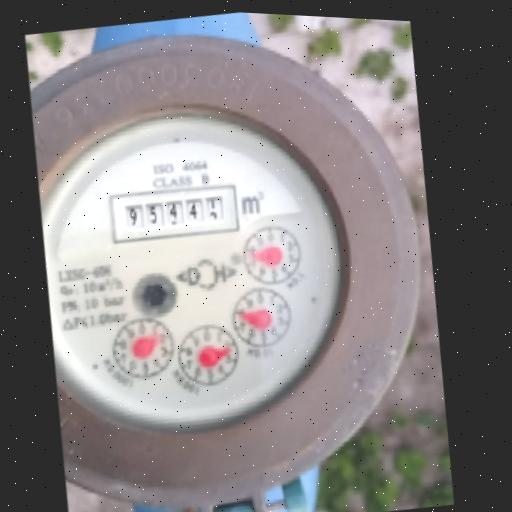1: (206, 196, 225, 220)
4: (166, 200, 185, 225), (186, 198, 204, 222)
5: (145, 202, 165, 227)
9: (125, 205, 144, 231)
border_water_meter_number: (105, 175, 242, 250)
